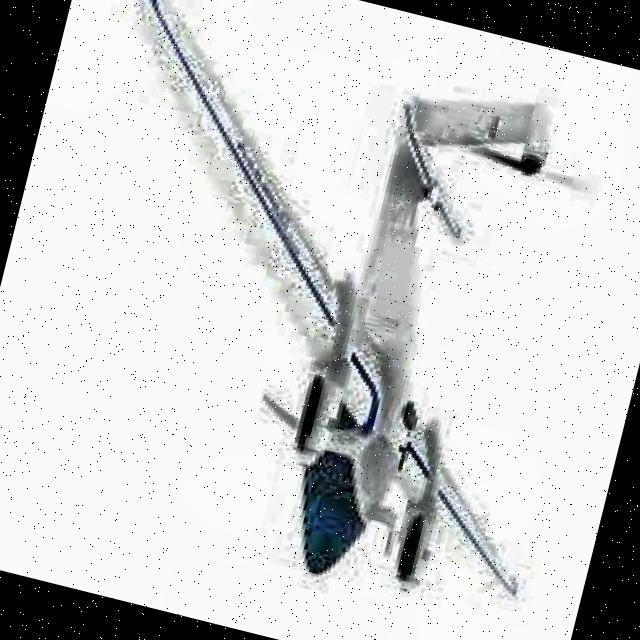iha: (4, 0, 640, 636)
